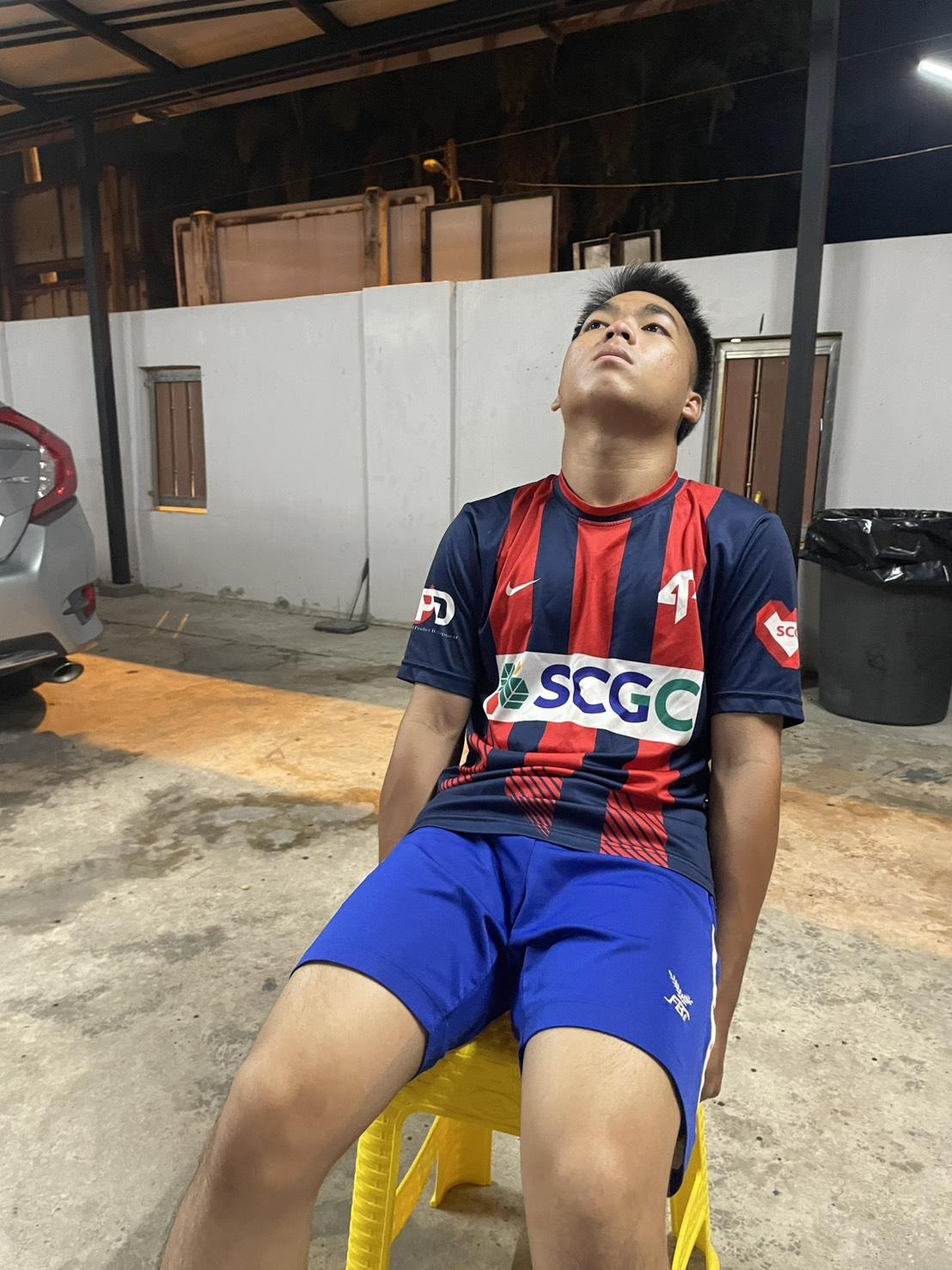BadPosture: (291, 266, 803, 1017)
